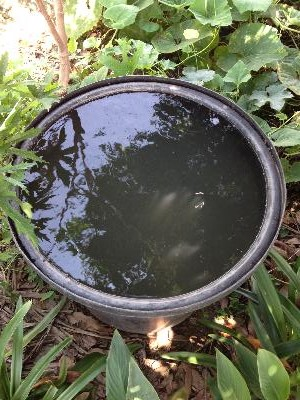bucket: (7, 75, 286, 333)
